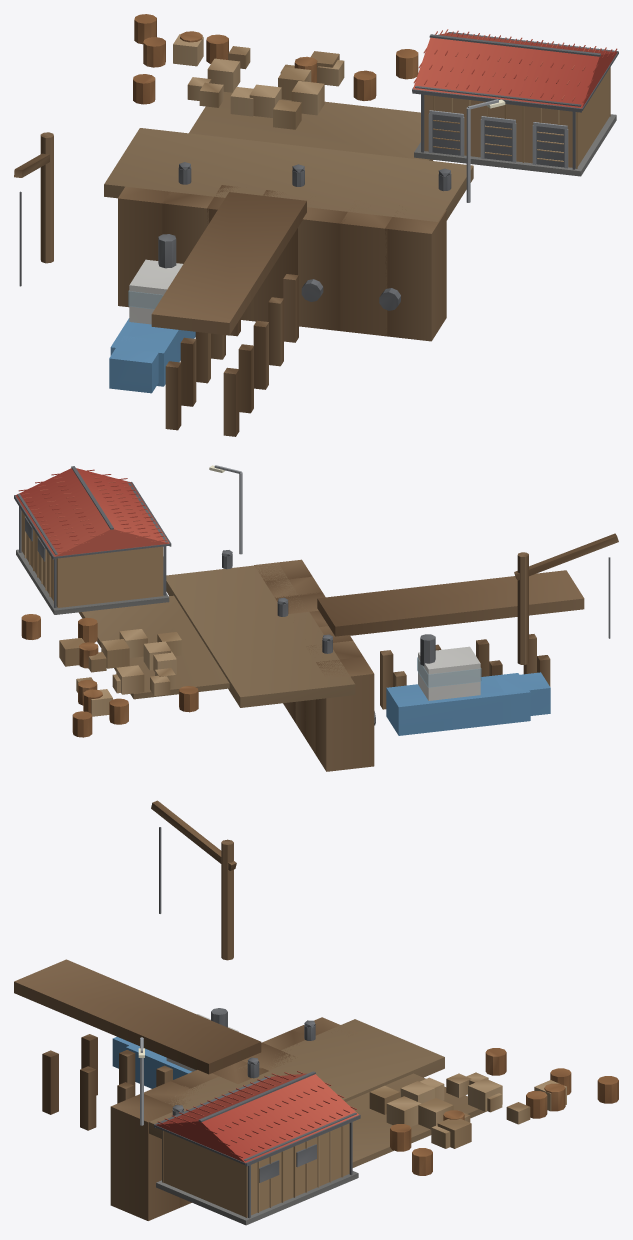
The model's file is Port_P1.fbx.
3 views of the same model, one above another, from view 1: azimuth 30°, elevation 25°; view 2: azimuth 150°, elevation 25°; view 3: azimuth 270°, elevation 25° (orthographic). The views are drawn at different scales.
Visible parts, largest first — view 1: Port.Apron, Port.QuayWall, Port.Shed, Port.Pier0, Port.Crates, Port.Boat, Port.Derrick, Port.Lamp0; view 2: Port.Apron, Port.Shed, Port.Pier0, Port.Boat, Port.QuayWall, Port.Crates, Port.Derrick, Port.Lamp0; view 3: Port.Shed, Port.Pier0, Port.Apron, Port.Crates, Port.QuayWall, Port.Derrick, Port.Boat.
Part boxes in pixels (<box>): Port.Apron: <box>104,92,473,221</box>; Port.QuayWall: <box>118,175,446,341</box>; Port.Shed: <box>412,29,618,176</box>; Port.Pier0: <box>151,192,306,436</box>; Port.Crates: <box>133,14,418,129</box>; Port.Boat: <box>109,234,195,393</box>; Port.Derrick: <box>14,132,53,286</box>; Port.Lamp0: <box>466,99,505,202</box>; Port.Apron: <box>78,563,355,707</box>; Port.Shed: <box>14,466,171,614</box>; Port.Pier0: <box>317,570,584,709</box>; Port.Boat: <box>386,634,550,735</box>; Port.QuayWall: <box>254,559,375,771</box>; Port.Crates: <box>21,614,198,737</box>; Port.Derrick: <box>514,533,618,664</box>; Port.Lamp0: <box>209,465,242,554</box>; Port.Shed: <box>154,1071,360,1225</box>; Port.Pier0: <box>14,959,261,1130</box>; Port.Apron: <box>149,1019,486,1167</box>; Port.Crates: <box>369,1048,618,1175</box>; Port.QuayWall: <box>110,1017,358,1220</box>; Port.Derrick: <box>151,800,236,960</box>; Port.Boat: <box>112,1008,238,1088</box>.
Bounding box in the file's own units: 6550 × 2495 × 5707.
